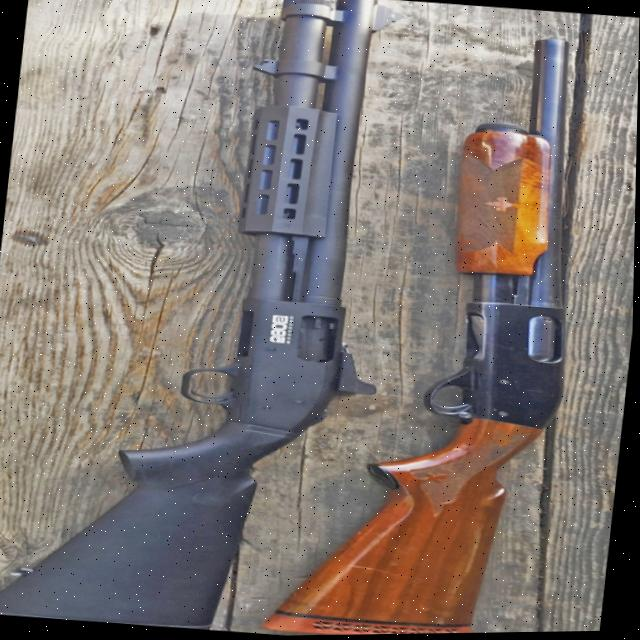firearm: (0, 0, 386, 640), (259, 17, 599, 637)
